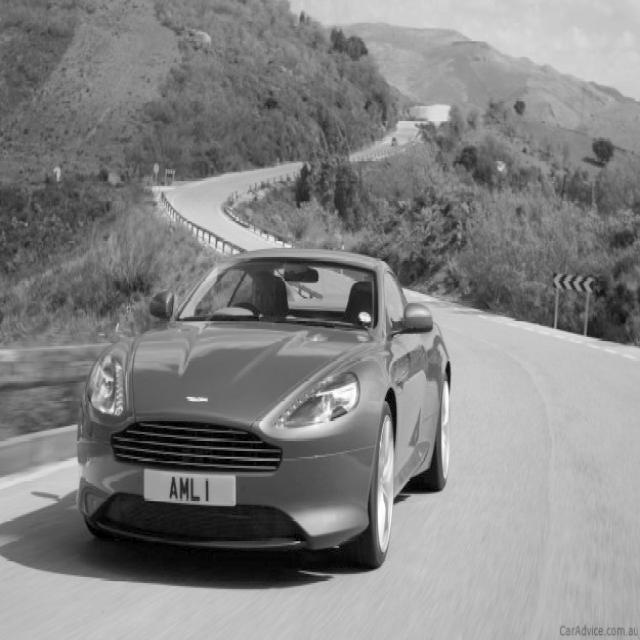car: (76, 246, 452, 569)
